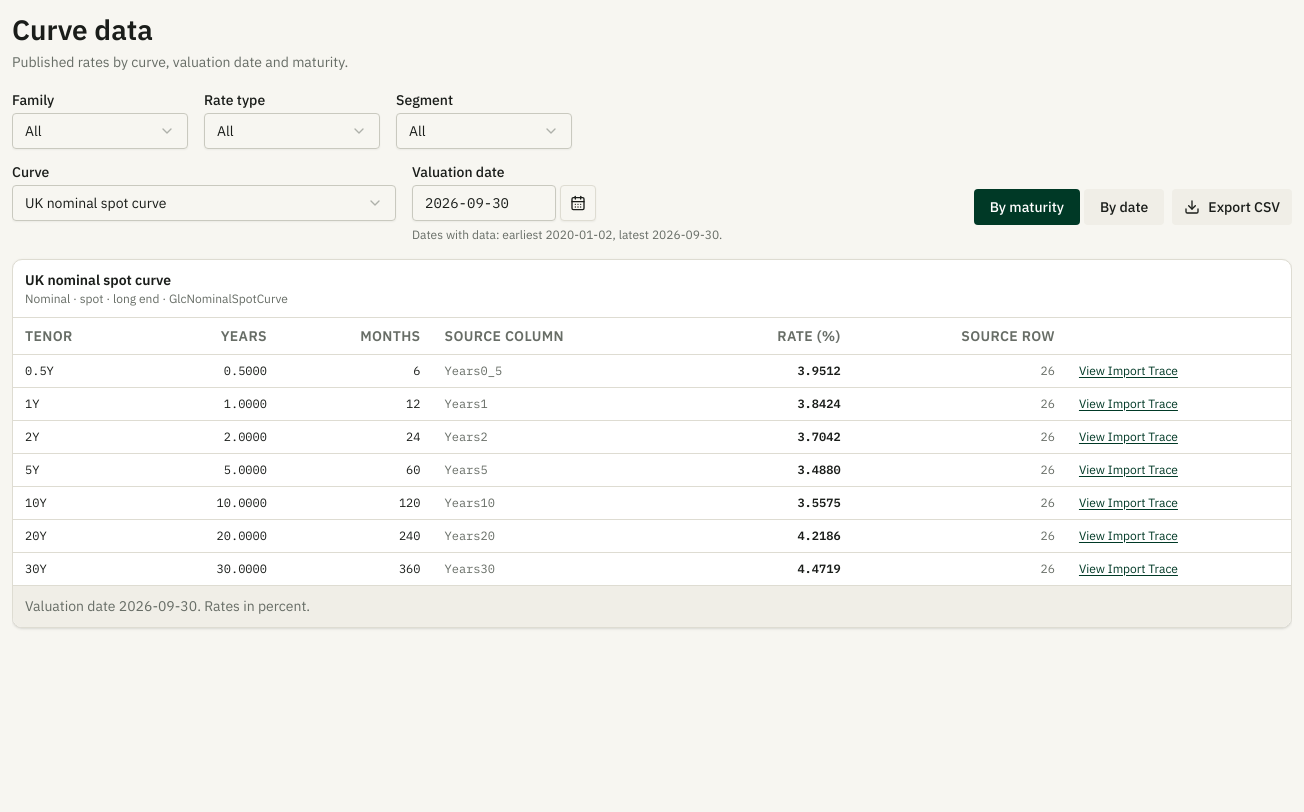
Test: Epic curve-data, Story 2: Curve catalogue filters › selects the first matching curve and shows its rates when the selected curve no longer matches
Expected: the row "10Y 10.0000 120 Years10 3.5575 26 View Import Trace" is shown, [13,486,1291,519]
Expected: the dropdown labelled "curve" reads "UK nominal spot curve", [12,185,396,221]
Click the dropdown named "Family" at (100, 131), box [12,113,188,149]
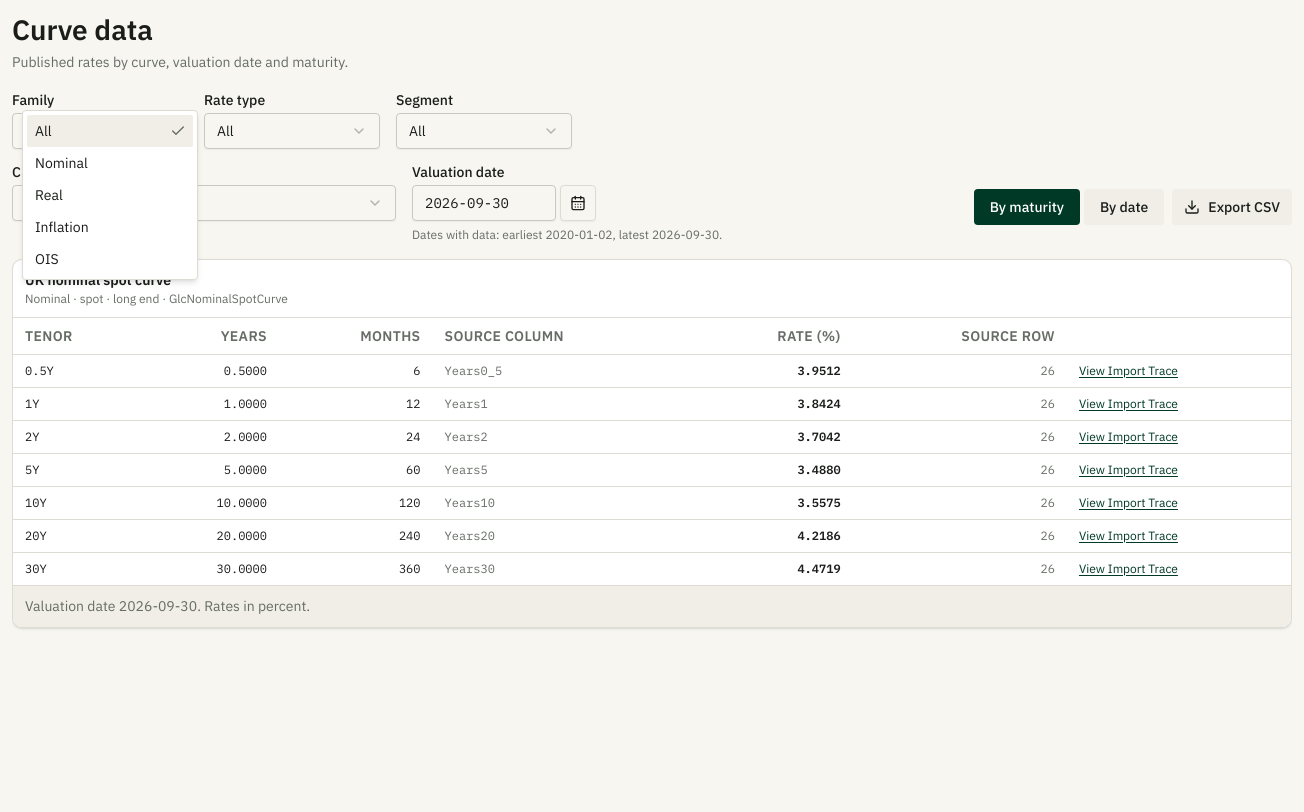
Click the option "Real" at (49, 195), box [35,186,63,204]
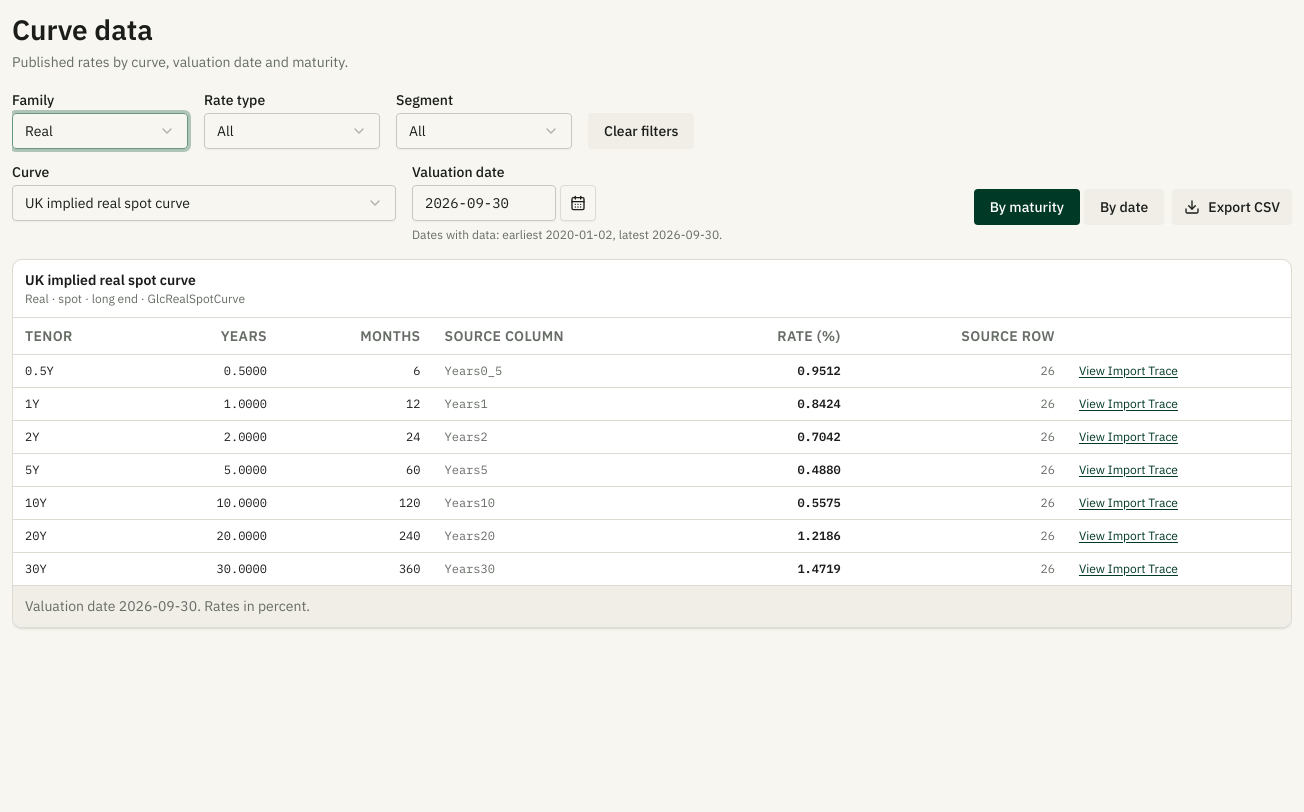
Now the text "0.5575" is shown, box [694,486,853,519]
Now the text "3.5575" is gone
Now the dropdown labelled "curve" reads "UK implied real spot curve", box [12,185,396,221]
